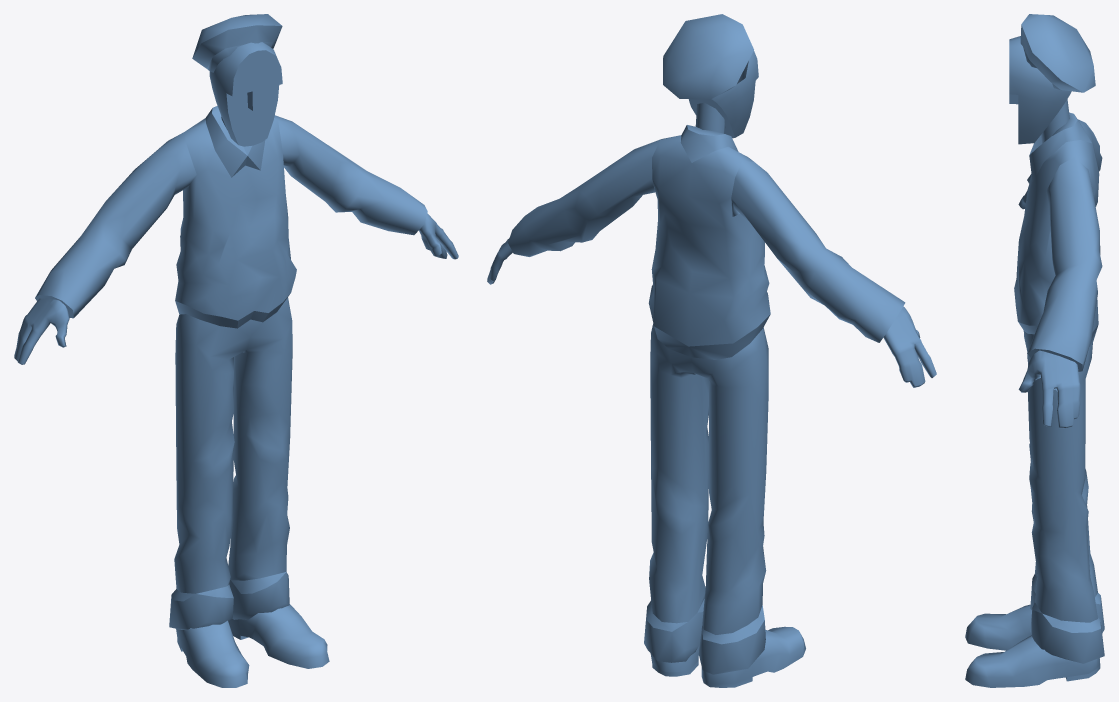
Rendered from figure_scaled_1m.fbx.
3 views of the same model, side by side, from view 1: azimuth 30°, elevation 25°; view 2: azimuth 150°, elevation 25°; view 3: azimuth 270°, elevation 25° (orthographic).
Visible parts, largest first — view 1: Body, Shoes, Head, Hands, Cap; view 2: Body, Cap, Shoes, Hands, Head, Neck; view 3: Body, Shoes, Cap, Head, Hands, Neck.
Boxes of the visible parts, x1,y1,x2,y2 form: Body: [35, 106, 427, 630]; Shoes: [176, 604, 329, 687]; Head: [209, 42, 282, 146]; Hands: [14, 213, 458, 364]; Cap: [192, 14, 282, 72]; Body: [508, 125, 905, 674]; Cap: [663, 14, 753, 99]; Shoes: [650, 626, 805, 687]; Hands: [487, 238, 936, 387]; Head: [688, 51, 758, 138]; Neck: [695, 102, 725, 133]; Body: [1014, 112, 1104, 663]; Shoes: [965, 604, 1100, 687]; Cap: [1020, 14, 1095, 92]; Head: [1009, 36, 1071, 144]; Hands: [1018, 187, 1080, 428]; Neck: [1041, 99, 1069, 143].
Bounding box in the file's own units: 71.73 × 98.83 × 19.57.
